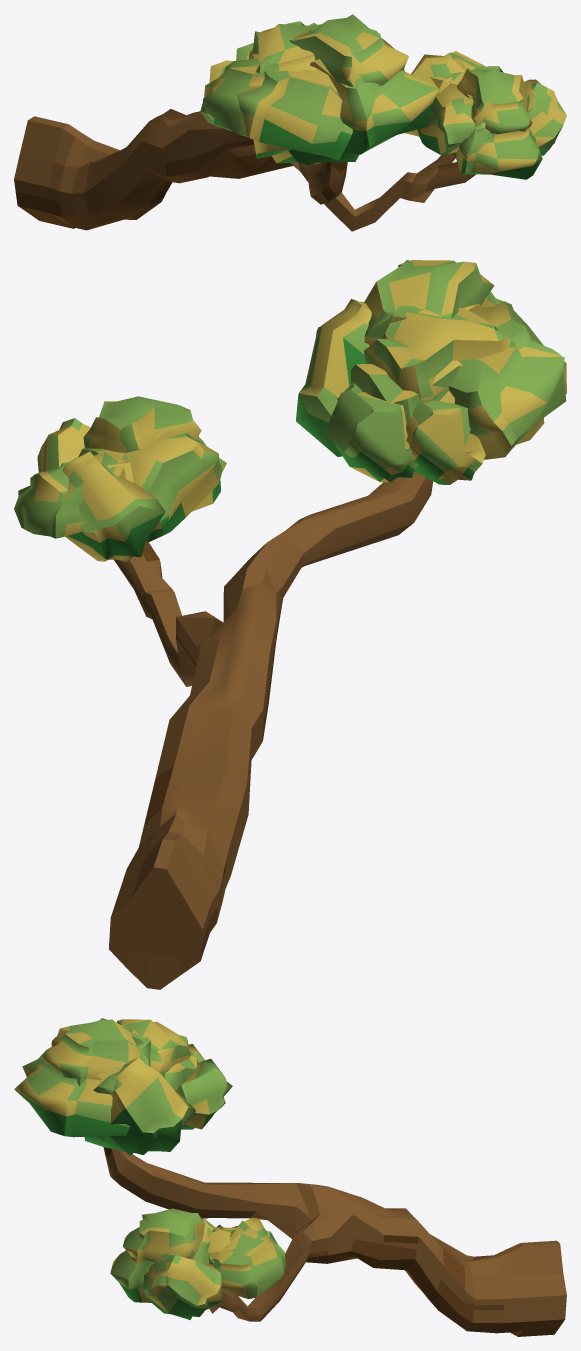
The model's file is Branch2.fbx.
The picture shows the model from 3 angles, top to bottom: view 1: azimuth 30°, elevation 25°; view 2: azimuth 150°, elevation 25°; view 3: azimuth 270°, elevation 25°; orthographic projection. The views are drawn at different scales.
Visible parts, largest first — view 1: polySurface1; view 2: polySurface1; view 3: polySurface1.
Part boxes in pixels (x1,y1,x2,y2): polySurface1: [14, 14, 566, 231]; polySurface1: [14, 260, 566, 989]; polySurface1: [14, 1018, 566, 1336].
Bounding box in the file's own units: 28.73 × 27.06 × 41.34.
